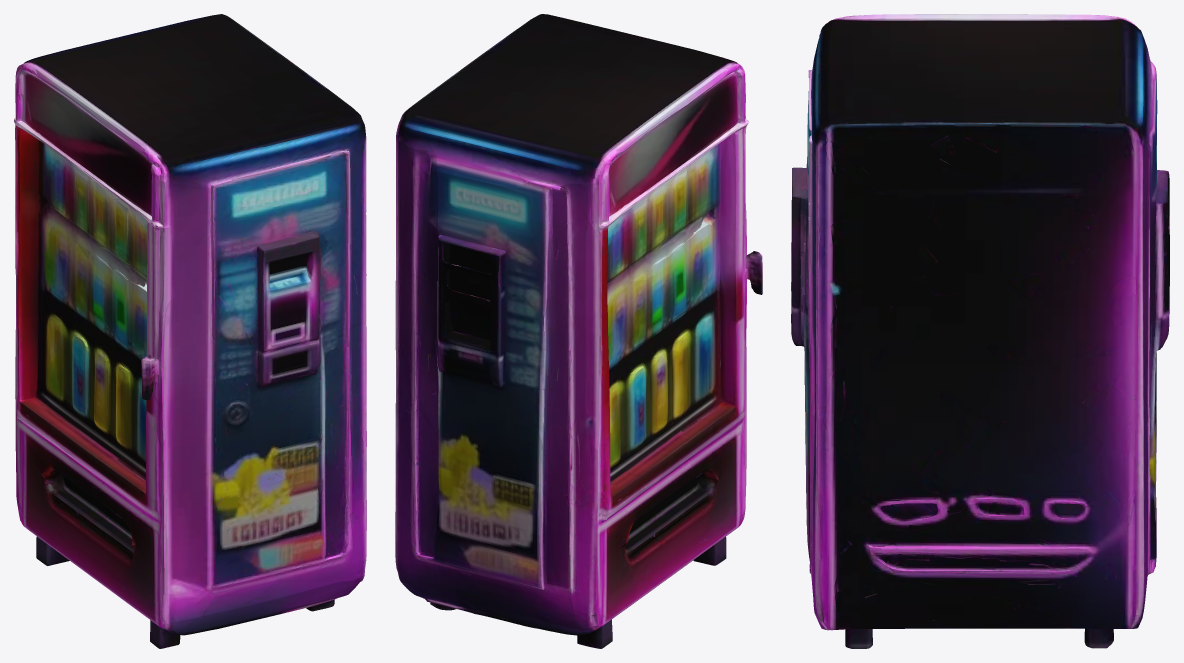
The model's file is prop_kurogane_vending.glb.
3 views of the same model, side by side, from view 1: azimuth 30°, elevation 25°; view 2: azimuth 150°, elevation 25°; view 3: azimuth 270°, elevation 25° (orthographic). The views are drawn at different scales.
Visible parts, largest first — view 1: geometry_0; view 2: geometry_0; view 3: geometry_0.
Part boxes in pixels (<box>): geometry_0: <box>14,14,366,648</box>; geometry_0: <box>395,14,762,648</box>; geometry_0: <box>791,14,1169,648</box>.
Size of the model in its own units: 0.4691 by 0.9951 by 0.6336.
Materials: 1 (1 with a texture image).
